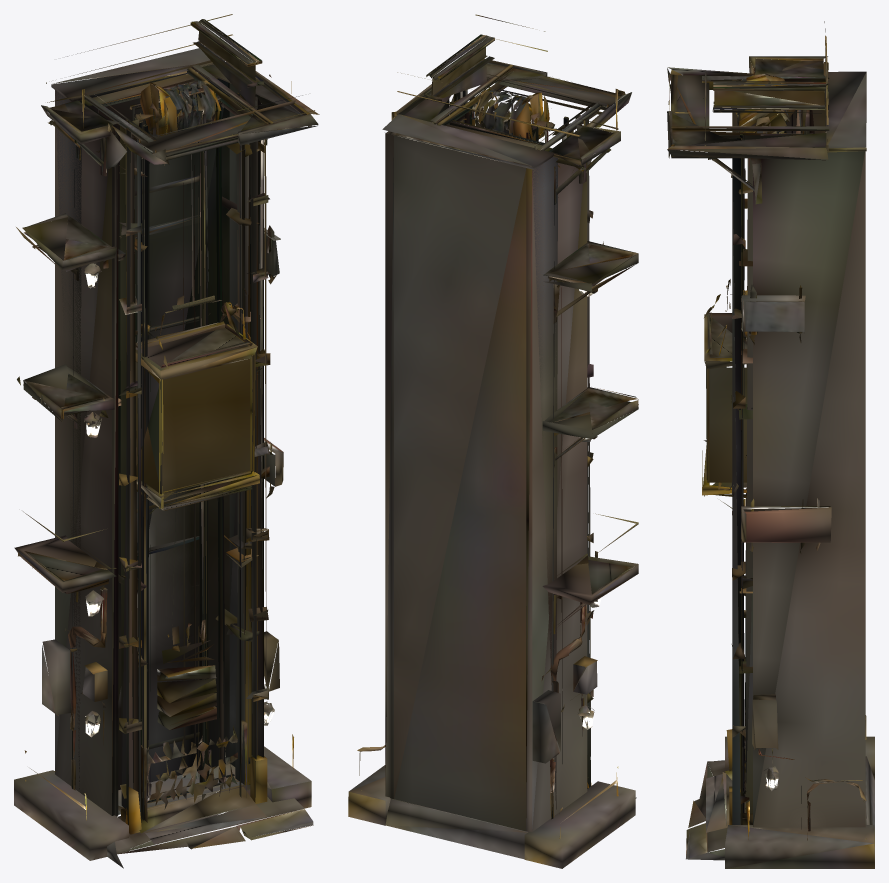
The model's file is elevator-far.glb.
3 views of the same model, side by side, from view 1: azimuth 30°, elevation 25°; view 2: azimuth 150°, elevation 25°; view 3: azimuth 270°, elevation 25° (orthographic). The views are drawn at different scales.
Parts seen in each view (by area): view 1: elevator; view 2: elevator; view 3: elevator.
Boxes of the visible parts, x1,y1,x2,y2 form: elevator: [14, 14, 319, 868]; elevator: [348, 14, 638, 868]; elevator: [667, 21, 874, 868].
Size of the model in its own units: 5.2 by 16.04 by 3.99.
1 material, 1 textured.
